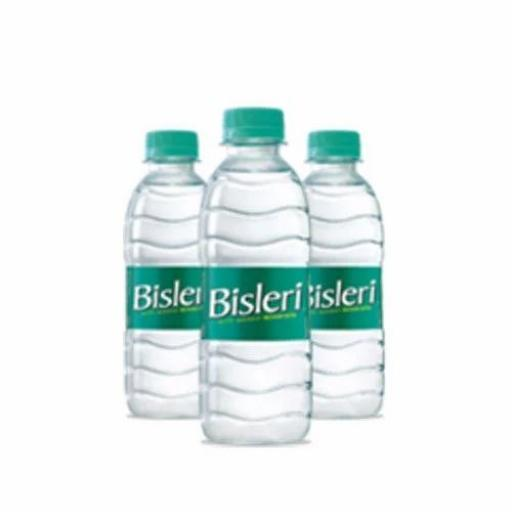bottle: (192, 100, 324, 450), (284, 91, 412, 438), (104, 126, 228, 430)
